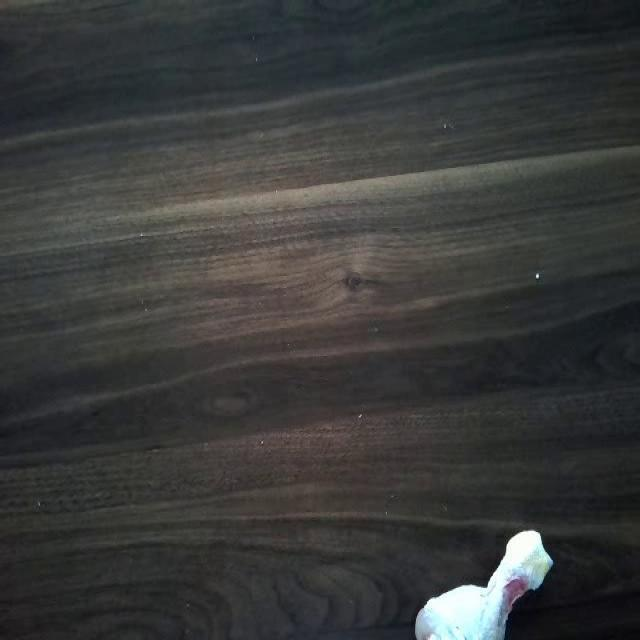leg: (406, 527, 539, 640)
